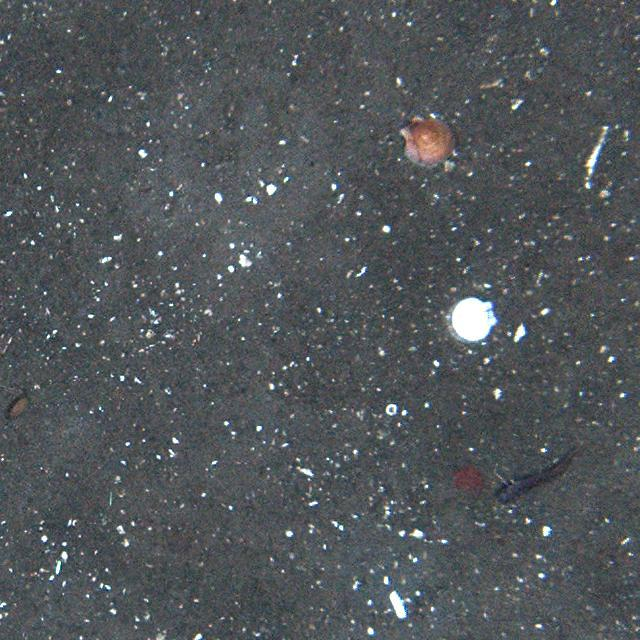scallop: (400, 105, 460, 168)
